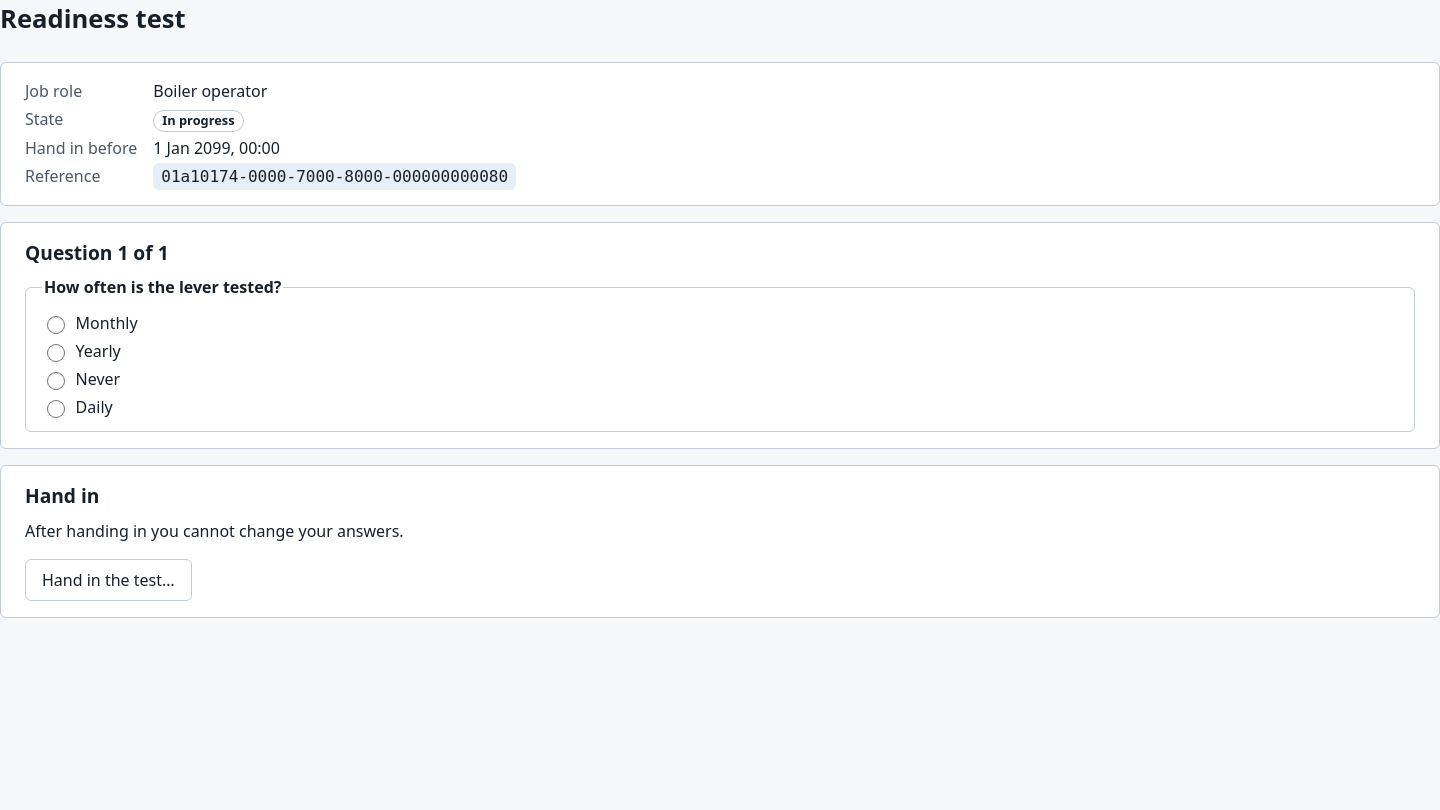
Test: readiness test › a choice whose save failed is shown as not saved and blocks handing in until it is chosen again
This screenshot has width=1440, height=810.
Click the radio button labelled "Yearly": (56, 353) [47,344,65,362]
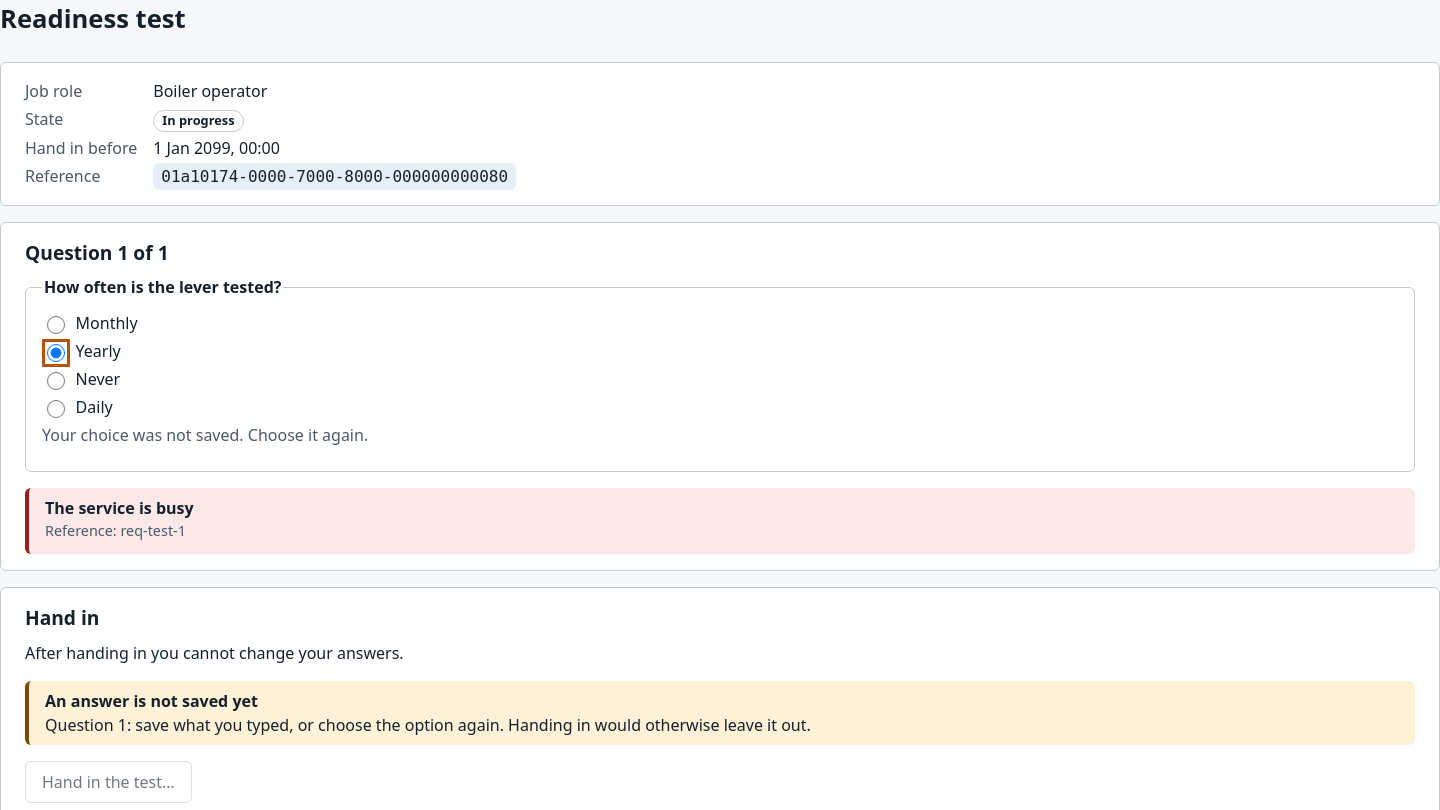
Result: the text "Your choice was not saved. Choose it again." is shown at [42,424,368,446]
Result: the button "Hand in the test…" is disabled at [25,761,192,803]
Click the radio button labelled "Monthly": (56, 325) [47,316,65,334]
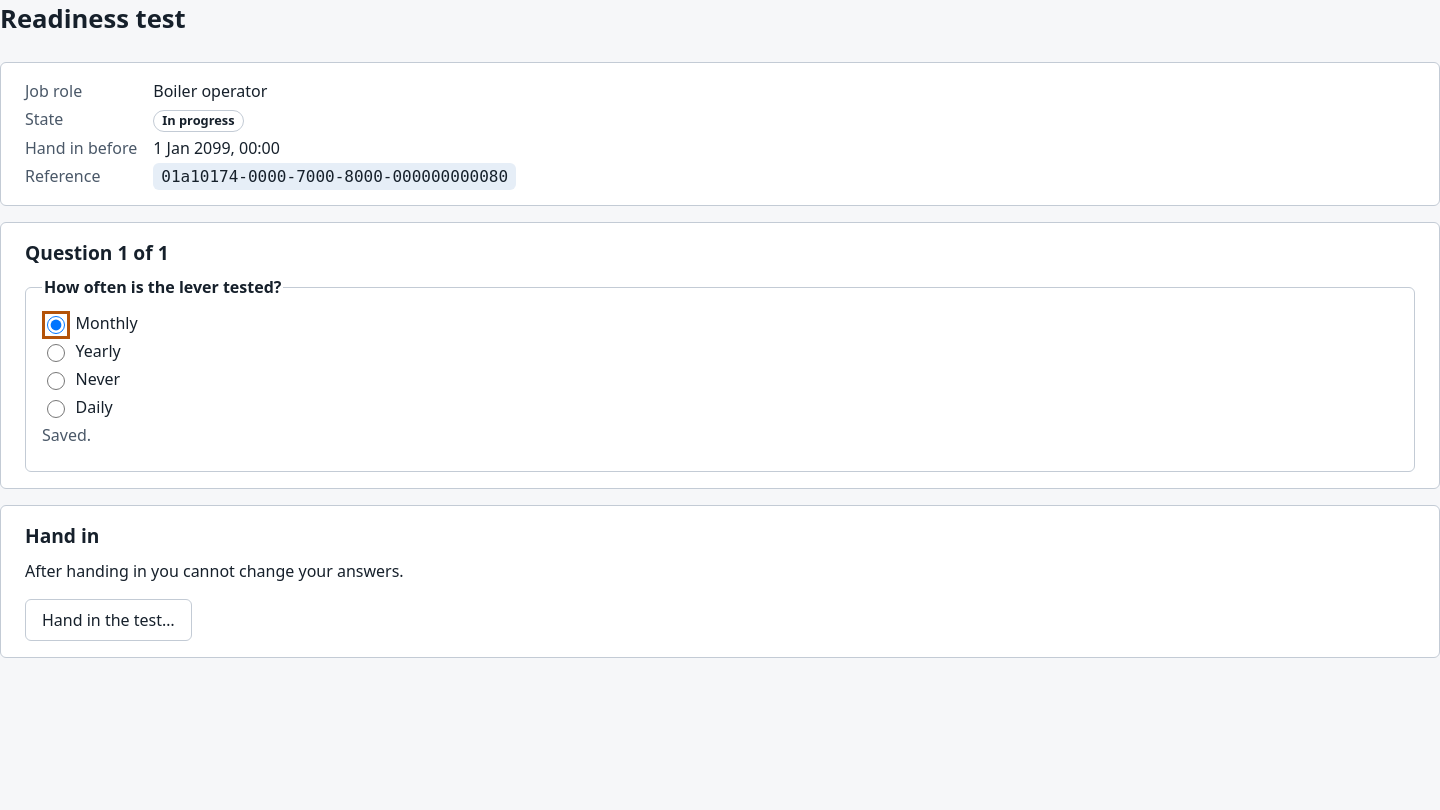
Result: the text "Saved." is shown at [42,424,91,446]
Result: the button "Hand in the test…" is enabled at [25,599,192,641]
